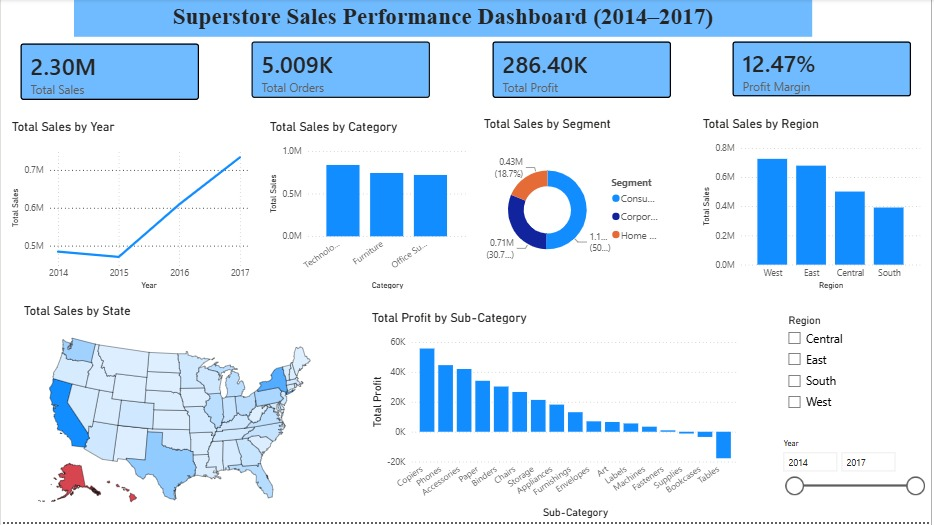

Layout of this report page (visuals, bound fields, positions):
{"tool":"powerbi","page":{"name":"Page 1","canvas":[1280,720],"ordinal":0},"visuals":[{"type":"cardVisual","fields":{"Data":["Sample - Superstore FOR WEEK 4.Total Sales"]},"box":[9.6,44,280.8,112.9],"z":0},{"type":"cardVisual","fields":{"Data":["Sample - Superstore FOR WEEK 4.Total Orders"]},"box":[327.6,41.3,280.8,112.9],"z":1000},{"type":"cardVisual","fields":{"Data":["Sample - Superstore FOR WEEK 4.Total Profit"]},"box":[659.3,41.3,280.8,112.9],"z":2000},{"type":"cardVisual","fields":{"Data":["Sample - Superstore FOR WEEK 4.Profit Margin"]},"box":[989.6,41.3,280.8,110.1],"z":3000},{"type":"clusteredColumnChart","fields":{"Category":["Sample - Superstore FOR WEEK 4.Region"],"Y":["Sample - Superstore FOR WEEK 4.Total Sales"]},"box":[960.7,161,309.7,243.6],"z":4000},{"type":"lineChart","fields":{"Category":["Sample - Superstore FOR WEEK 4.Order Date.Variation.Date Hierarchy.Year","Sample - Superstore FOR WEEK 4.Order Date.Variation.Date Hierarchy.Quarter","Sample - Superstore FOR WEEK 4.Order Date.Variation.Date Hierarchy.Month","Sample - Superstore FOR WEEK 4.Order Date.Variation.Date Hierarchy.Day"],"Y":["Sample - Superstore FOR WEEK 4.Total Sales"]},"box":[9.6,165.2,337.2,239.5],"z":5000},{"type":"clusteredColumnChart","fields":{"Category":["Sample - Superstore FOR WEEK 4.Category"],"Y":["Sample - Superstore FOR WEEK 4.Total Sales"]},"box":[364.7,165.2,280.8,239.5],"z":6000},{"type":"clusteredColumnChart","fields":{"Category":["Sample - Superstore FOR WEEK 4.Sub-Category"],"Y":["Sample - Superstore FOR WEEK 4.Total Profit"]},"box":[505.1,428,514.9,291.8],"z":7000},{"type":"donutChart","fields":{"Category":["Sample - Superstore FOR WEEK 4.Segment"],"Y":["Sample - Superstore FOR WEEK 4.Total Sales"]},"box":[659.3,161,261.5,228.5],"z":8000},{"type":"slicer","fields":{"Values":["Sample - Superstore FOR WEEK 4.Region"]},"box":[1071.2,429.1,200.2,148.7],"z":9000},{"type":"slicer","fields":{"Values":["Sample - Superstore FOR WEEK 4.Year"]},"box":[1063.9,600.1,216.1,99.1],"z":10000},{"type":"shapeMap","fields":{"Category":["Sample - Superstore FOR WEEK 4.State"],"Value":["Sample - Superstore FOR WEEK 4.Total Sales"]},"box":[26.2,418.4,425.3,291.8],"z":10001},{"type":"textbox","box":[100.5,0,1015.7,52.3],"z":10002}]}

Visuals, with their boxes in screenshot pixels (x1, y1, x2, y2), scaled from the page's 1280x720 canvas onto the 934x525 screenshot:
cardVisual - Sample - Superstore FOR WEEK 4.Total Sales: [x1=7, y1=32, x2=212, y2=114]
cardVisual - Sample - Superstore FOR WEEK 4.Total Orders: [x1=239, y1=30, x2=444, y2=112]
cardVisual - Sample - Superstore FOR WEEK 4.Total Profit: [x1=481, y1=30, x2=686, y2=112]
cardVisual - Sample - Superstore FOR WEEK 4.Profit Margin: [x1=722, y1=30, x2=927, y2=110]
clusteredColumnChart - Sample - Superstore FOR WEEK 4.Region x Sample - Superstore FOR WEEK 4.Total Sales: [x1=701, y1=117, x2=927, y2=295]
lineChart - Sample - Superstore FOR WEEK 4.Order Date.Variation.Date Hierarchy.Year x Sample - Superstore FOR WEEK 4.Order Date.Variation.Date Hierarchy.Quarter: [x1=7, y1=120, x2=253, y2=295]
clusteredColumnChart - Sample - Superstore FOR WEEK 4.Category x Sample - Superstore FOR WEEK 4.Total Sales: [x1=266, y1=120, x2=471, y2=295]
clusteredColumnChart - Sample - Superstore FOR WEEK 4.Sub-Category x Sample - Superstore FOR WEEK 4.Total Profit: [x1=369, y1=312, x2=744, y2=524]
donutChart - Sample - Superstore FOR WEEK 4.Segment x Sample - Superstore FOR WEEK 4.Total Sales: [x1=481, y1=117, x2=672, y2=284]
slicer - Sample - Superstore FOR WEEK 4.Region: [x1=782, y1=313, x2=928, y2=421]
slicer - Sample - Superstore FOR WEEK 4.Year: [x1=776, y1=438, x2=933, y2=510]
shapeMap - Sample - Superstore FOR WEEK 4.State x Sample - Superstore FOR WEEK 4.Total Sales: [x1=19, y1=305, x2=329, y2=518]
textbox: [x1=73, y1=0, x2=814, y2=38]
